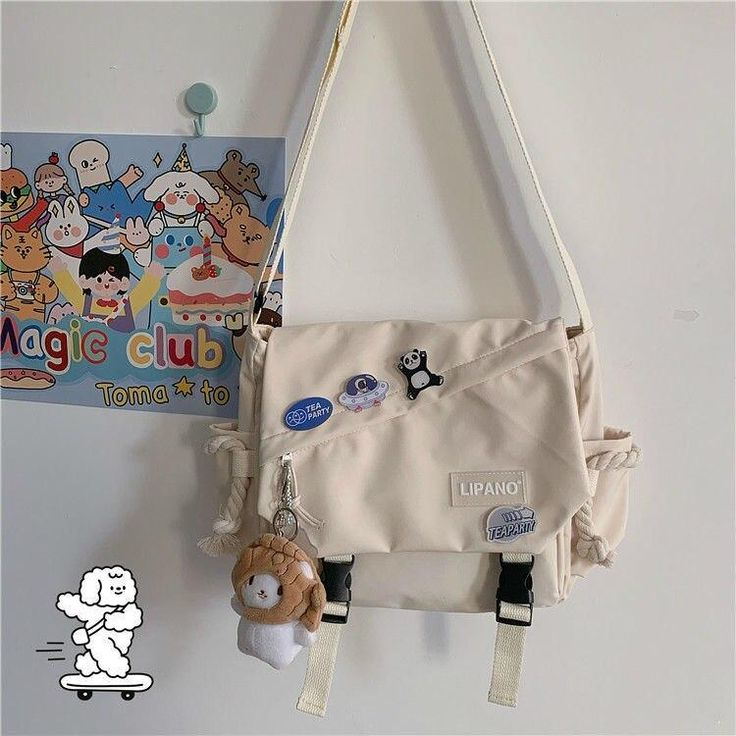nylon: (218, 318, 637, 614)
